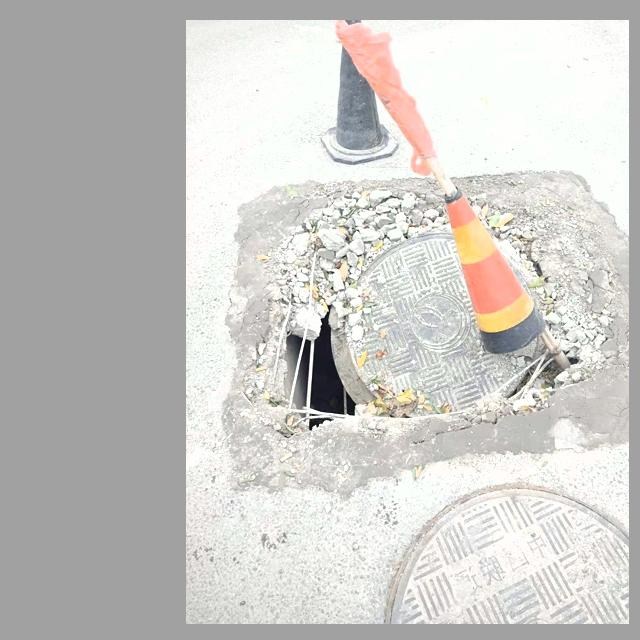circle: (280, 227, 563, 419)
